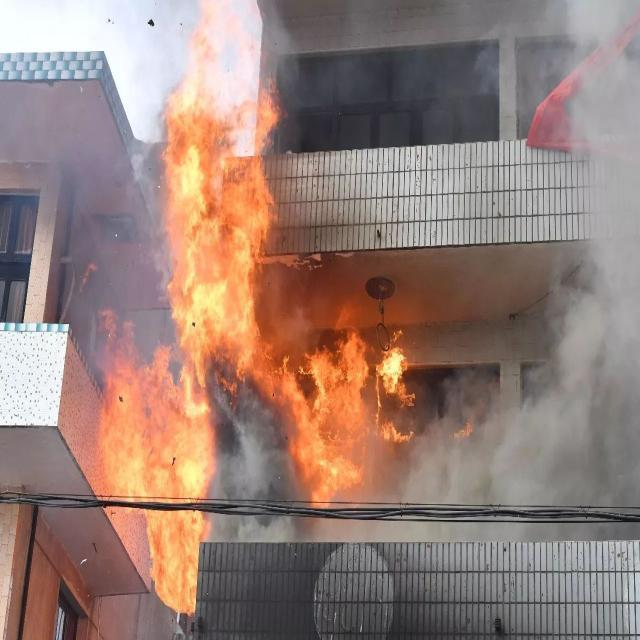Fire: (157, 0, 284, 362), (102, 314, 215, 611), (259, 340, 412, 500)
Smoke: (413, 294, 640, 502), (566, 0, 640, 295)
